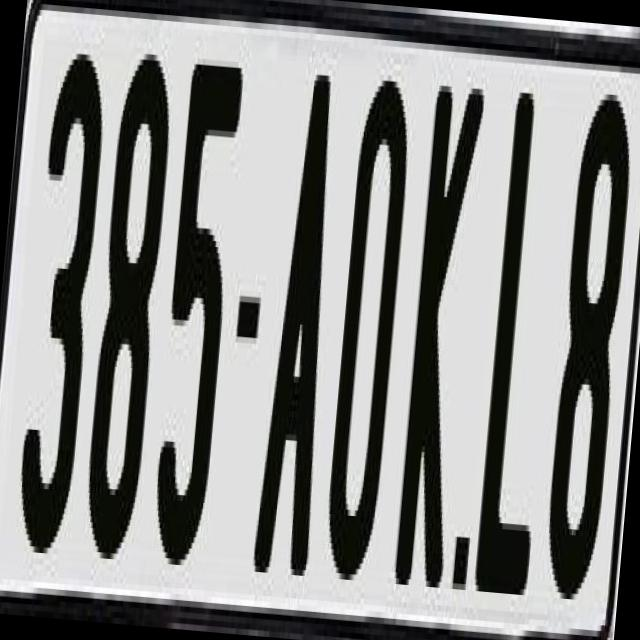0: (317, 72, 418, 588)
3: (10, 51, 106, 560)
5: (150, 52, 247, 556)
8: (539, 92, 640, 607), (80, 41, 176, 566)
A: (250, 72, 356, 600)
K: (392, 67, 484, 594)
L: (470, 86, 574, 606)
